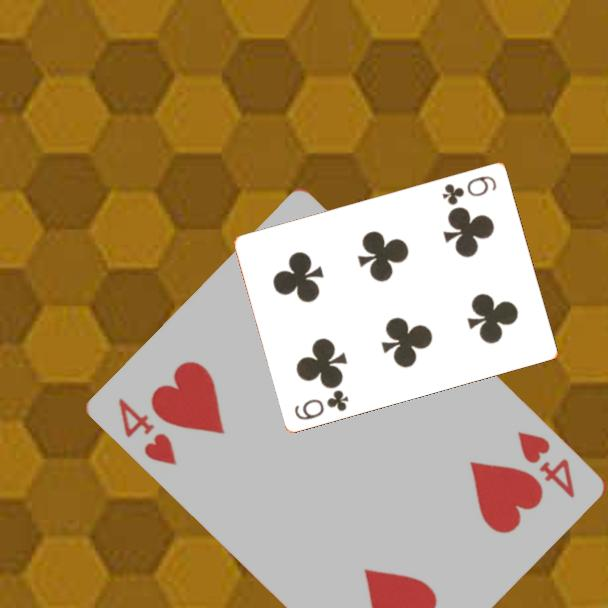c06: (291, 386, 352, 423), (439, 172, 500, 208)
h04: (115, 394, 181, 469), (514, 427, 579, 502)
